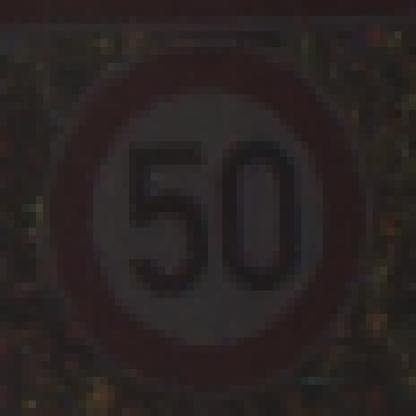Speed Limit 50: (58, 47, 362, 392)
